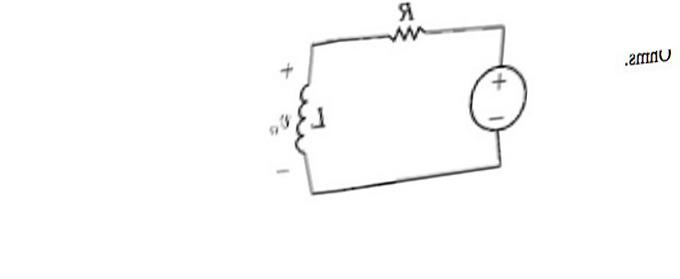Battery: (446, 52, 543, 142)
